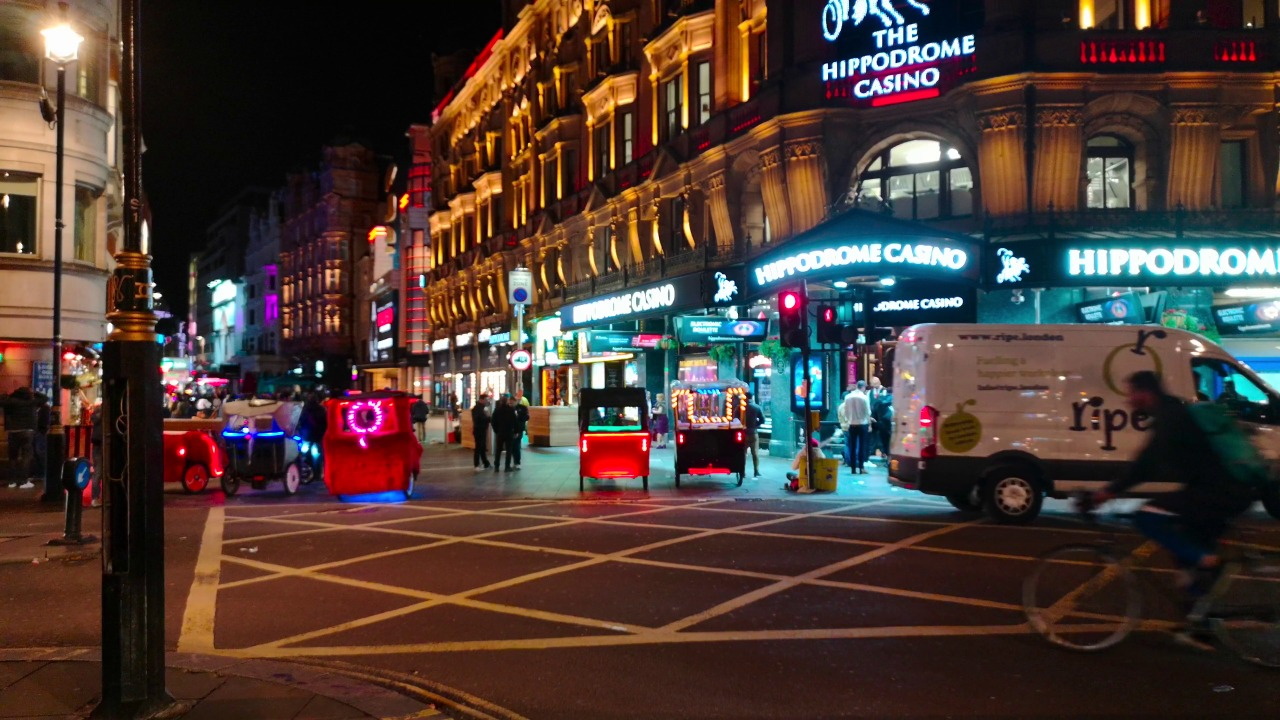car: (879, 321, 1250, 503), (586, 388, 652, 495), (237, 403, 308, 501), (332, 406, 404, 498), (677, 384, 738, 487), (168, 427, 224, 489)
person: (1113, 386, 1241, 627), (1, 387, 34, 496), (798, 437, 835, 499), (751, 402, 777, 484), (495, 400, 519, 477), (471, 387, 488, 478), (848, 371, 863, 461), (652, 396, 668, 450), (515, 393, 527, 464), (868, 374, 888, 416), (417, 403, 433, 439)
